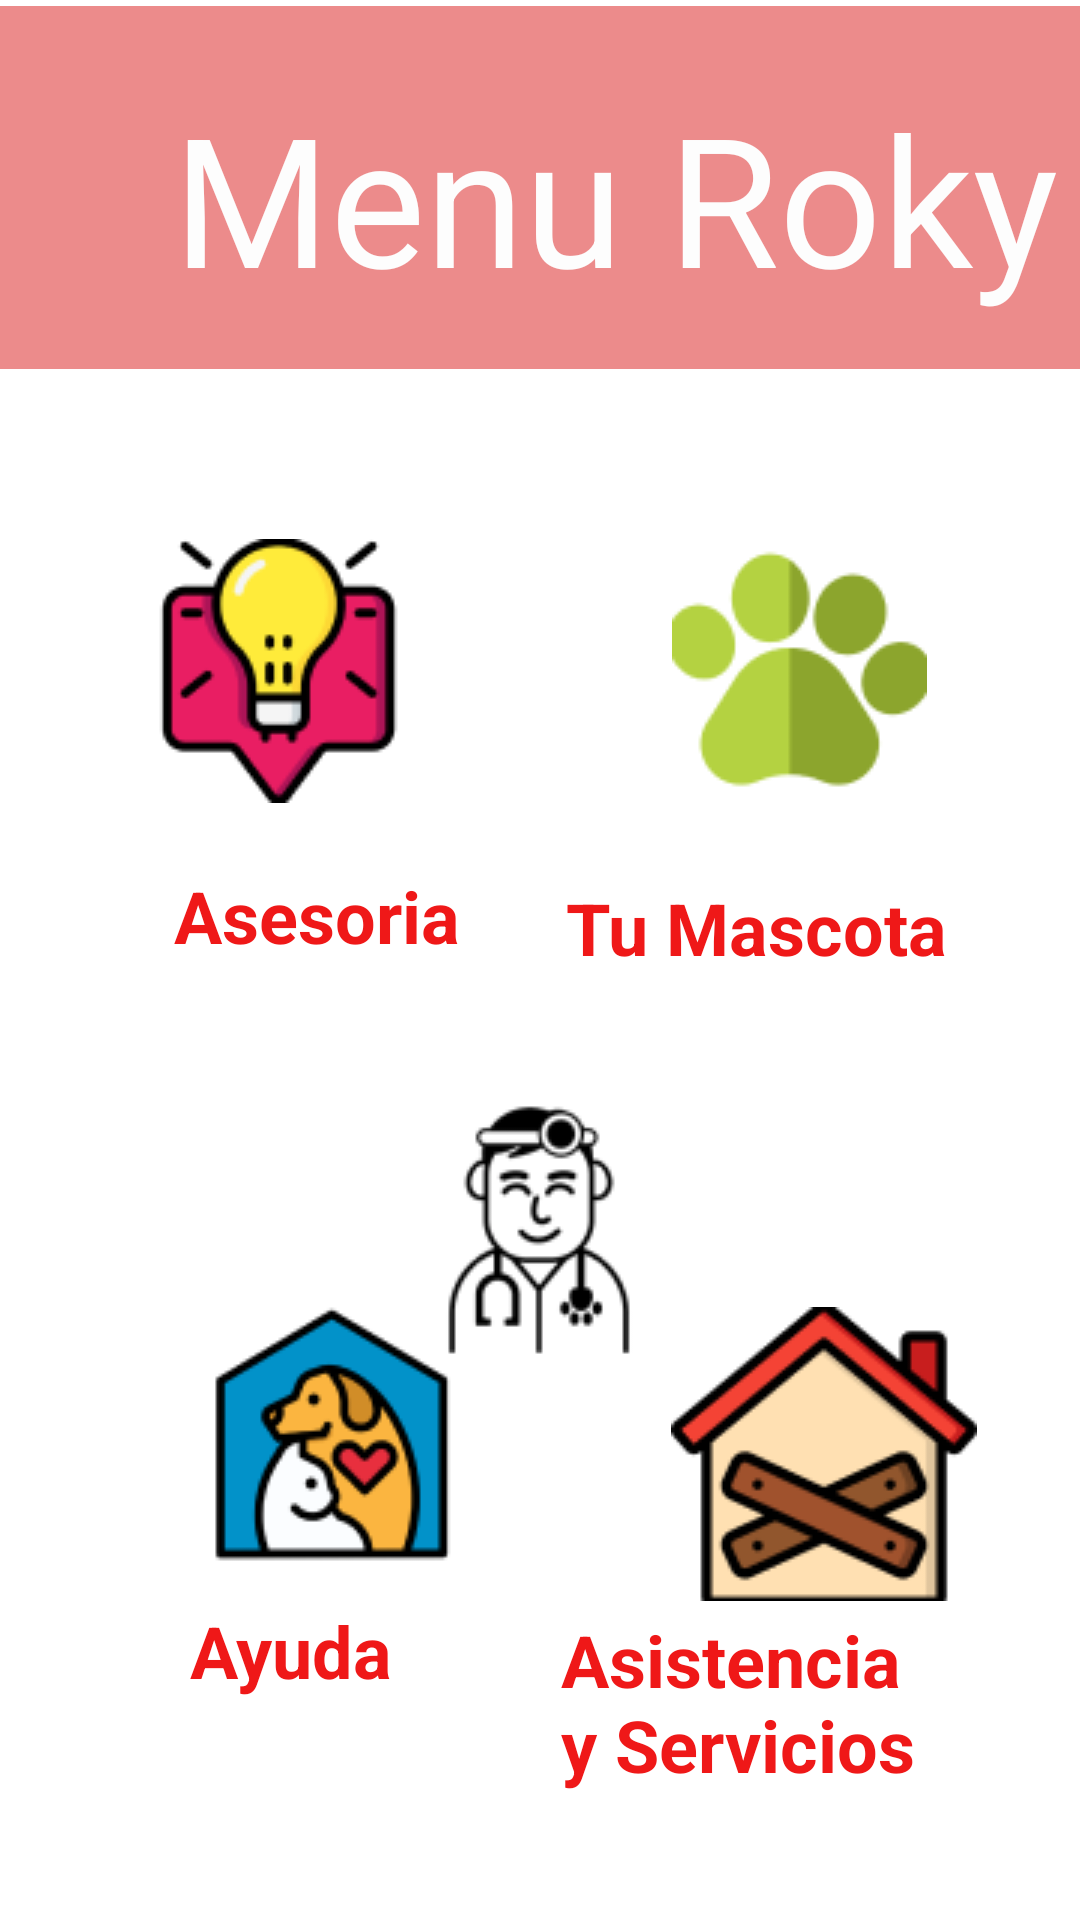

Locate icon controls on the screen. Image size 1080 × 1920, boxes as (x1, y1, x2, y2).
huella: (672, 552, 927, 787)
Veterinario: (448, 1106, 630, 1354)
